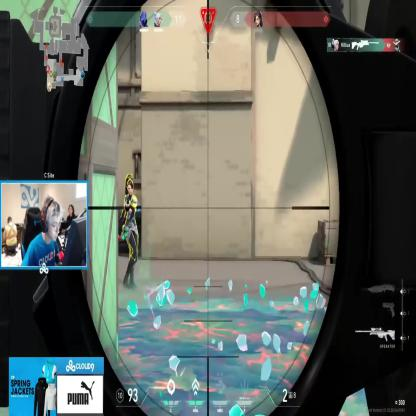enemy: (120, 174, 140, 289)
enemy_head: (126, 179, 134, 195)
